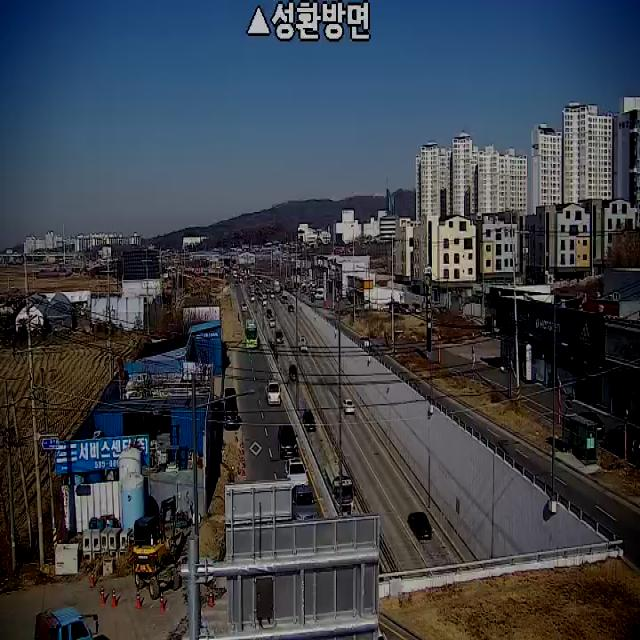Bus: (246, 317, 258, 348)
Car: (605, 424, 640, 460), (292, 484, 318, 520), (573, 411, 604, 441), (285, 457, 309, 489), (408, 513, 432, 540), (278, 426, 298, 458), (302, 409, 316, 432), (341, 399, 355, 413), (289, 364, 296, 381), (277, 329, 284, 344), (266, 309, 272, 318), (241, 304, 248, 311), (270, 318, 275, 327), (288, 305, 294, 312)
Truck: (123, 490, 188, 602), (34, 607, 99, 640), (324, 464, 355, 518), (223, 388, 237, 428), (265, 380, 281, 405), (299, 336, 308, 351), (263, 295, 267, 306)
